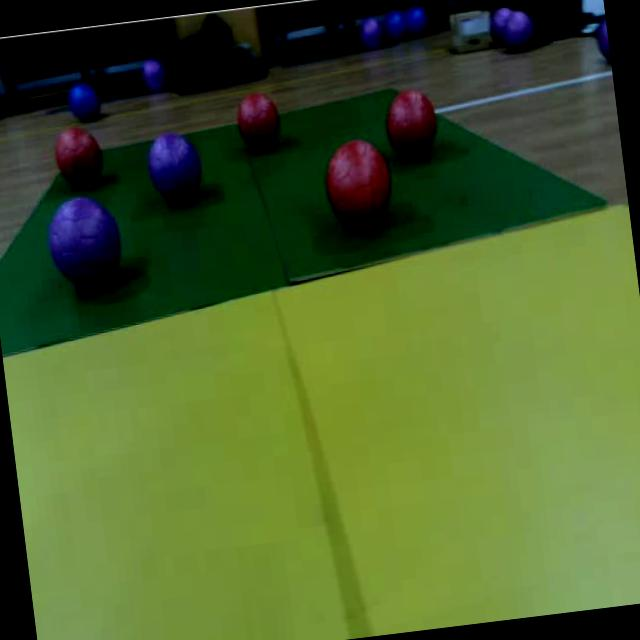purple_ball: (44, 193, 126, 290), (144, 130, 204, 202), (501, 9, 534, 52)
red_ball: (321, 136, 395, 230), (382, 87, 442, 159), (52, 123, 102, 187), (233, 90, 283, 149)
